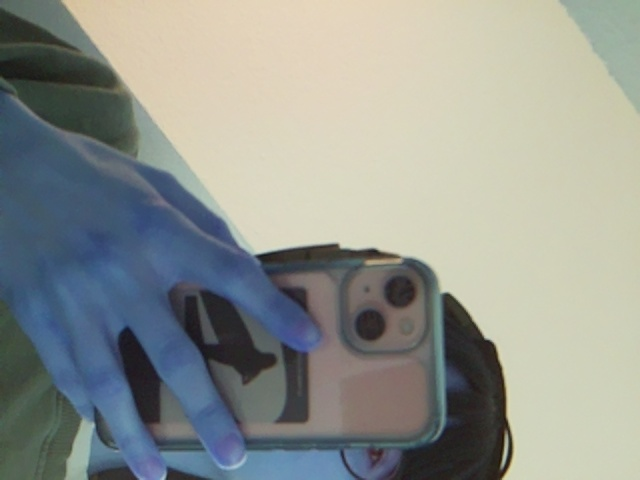cell phone: (98, 256, 438, 449)
